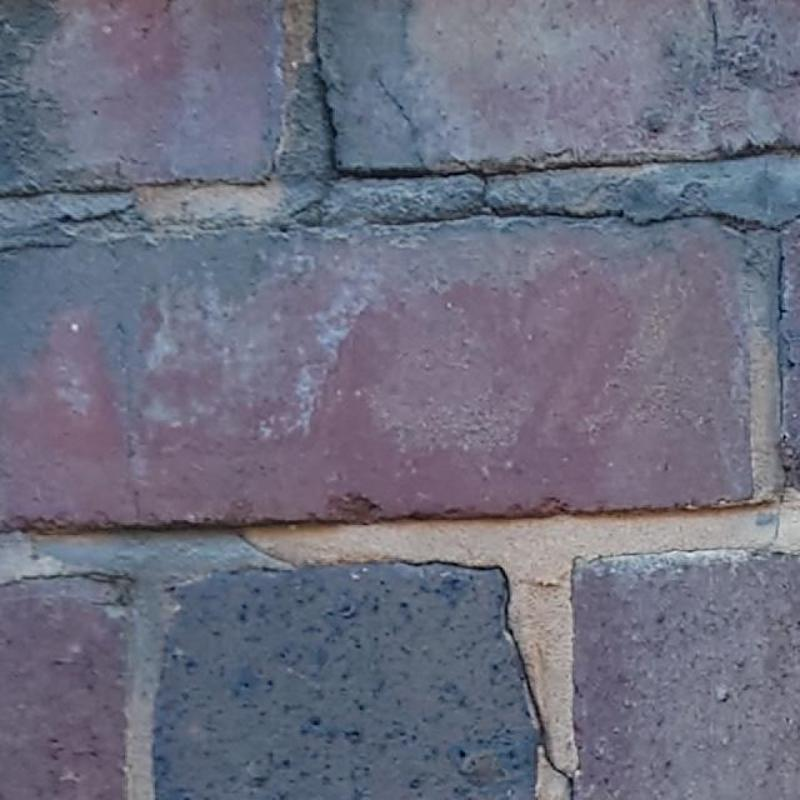pothole: (372, 156, 799, 319), (401, 559, 576, 799), (570, 482, 789, 590), (378, 79, 432, 175), (231, 529, 302, 569)
